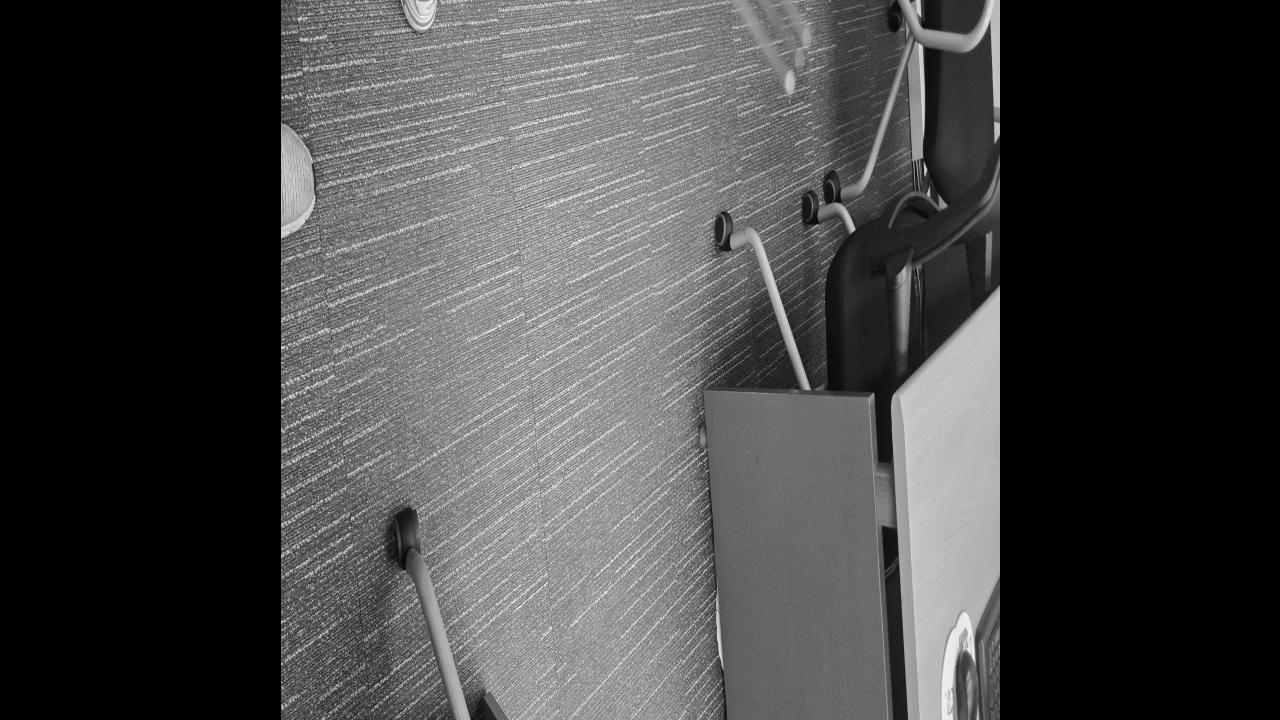fork: (635, 0, 809, 94)
